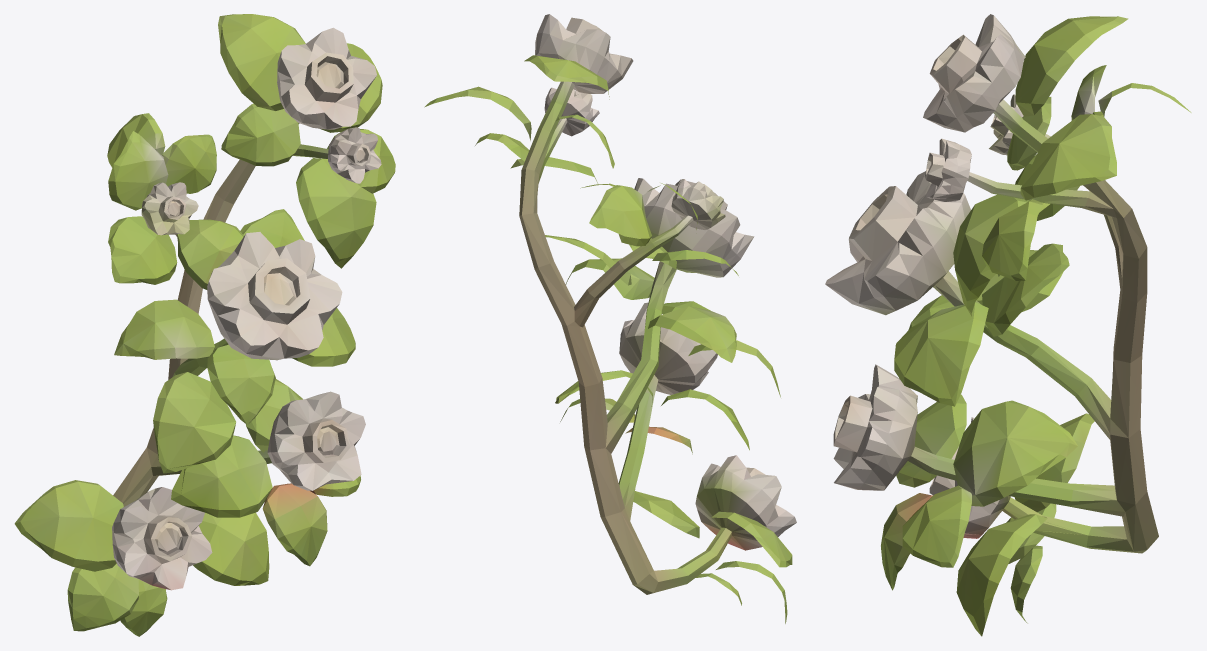
Rendered from rosevine.glb.
3 views of the same model, side by side, from view 1: azimuth 30°, elevation 25°; view 2: azimuth 150°, elevation 25°; view 3: azimuth 270°, elevation 25° (orthographic). The views are drawn at different scales.
Parts seen in each view (by area): view 1: geometry_0; view 2: geometry_0; view 3: geometry_0.
Part boxes in pixels (<box>): geometry_0: <box>14,14,395,636</box>; geometry_0: <box>424,14,796,623</box>; geometry_0: <box>825,14,1191,636</box>.
Size of the model in its own units: 0.1431 by 0.2222 by 0.1064.
